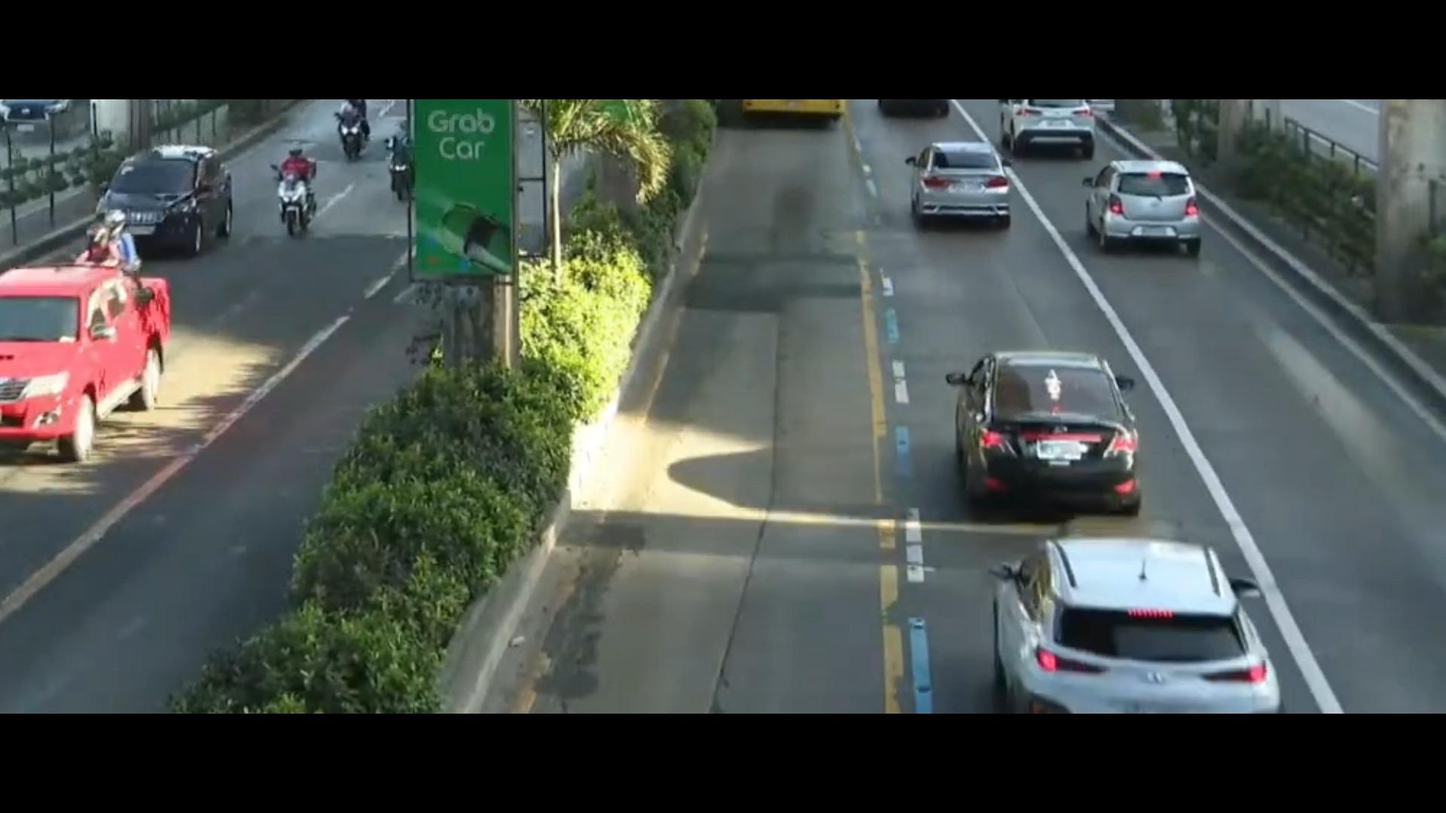Motorcycle: (268, 139, 329, 250), (85, 201, 161, 274), (330, 91, 380, 177), (372, 118, 413, 199)
Pickup: (3, 261, 196, 456)
SUV: (985, 492, 1303, 709), (105, 116, 244, 254)
Sedan: (947, 332, 1153, 509), (1074, 151, 1228, 254), (897, 133, 1015, 244)
